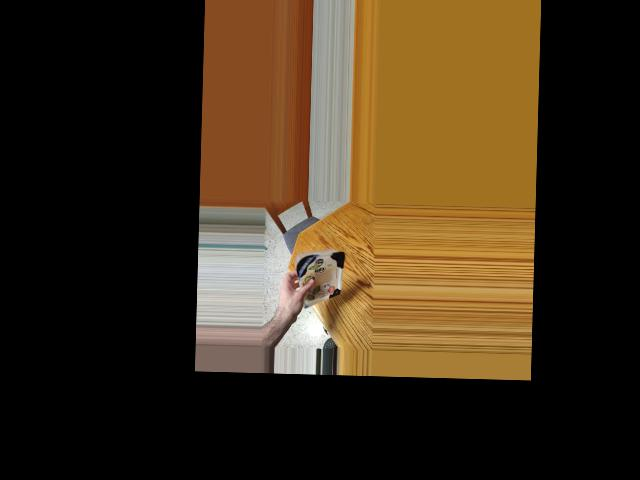cheese: (293, 245, 342, 298)
